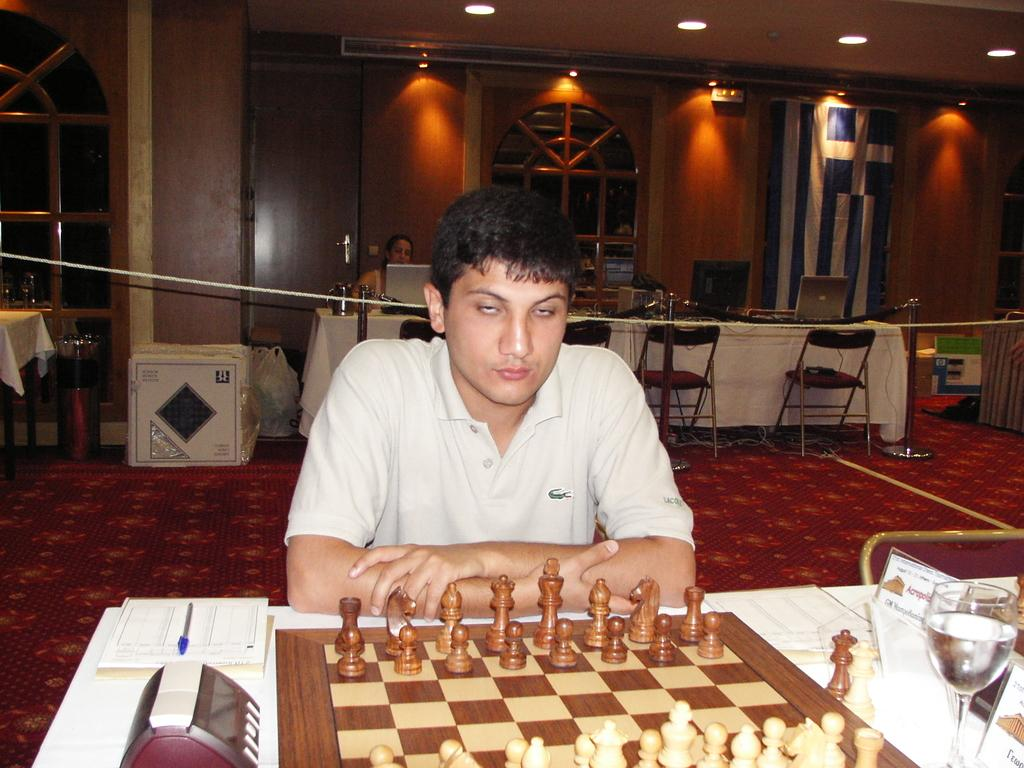Chair: (763, 327, 875, 460), (632, 326, 724, 465), (562, 324, 614, 352), (401, 320, 444, 339)
